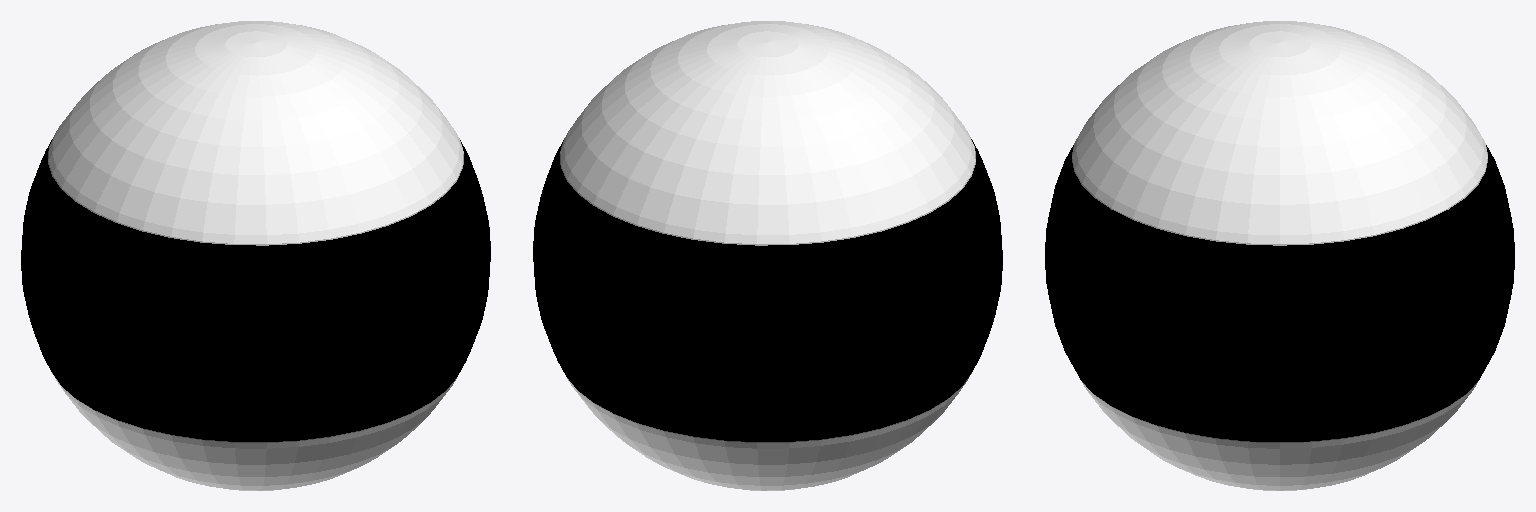
3 views of the same model, side by side, from view 1: azimuth 30°, elevation 25°; view 2: azimuth 150°, elevation 25°; view 3: azimuth 270°, elevation 25° (orthographic).
Parts seen in each view (by area): view 1: 球_球.001; view 2: 球_球.001; view 3: 球_球.001.
Boxes of the visible parts, box(x1,y1,x2,y2) form: 球_球.001: box(21, 21, 490, 490); 球_球.001: box(533, 21, 1002, 490); 球_球.001: box(1045, 21, 1514, 490).
Bounding box in the file's own units: 2 × 2 × 2.
Materials: 1 (1 with a texture image).